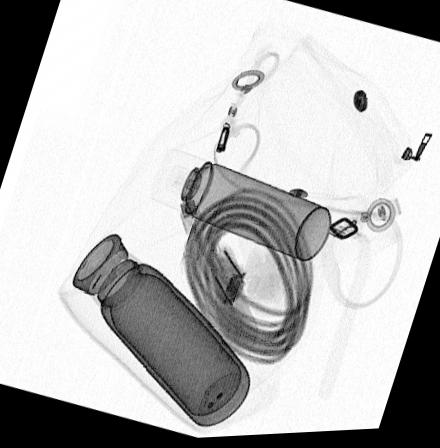Sprayer: (147, 149, 334, 267)
